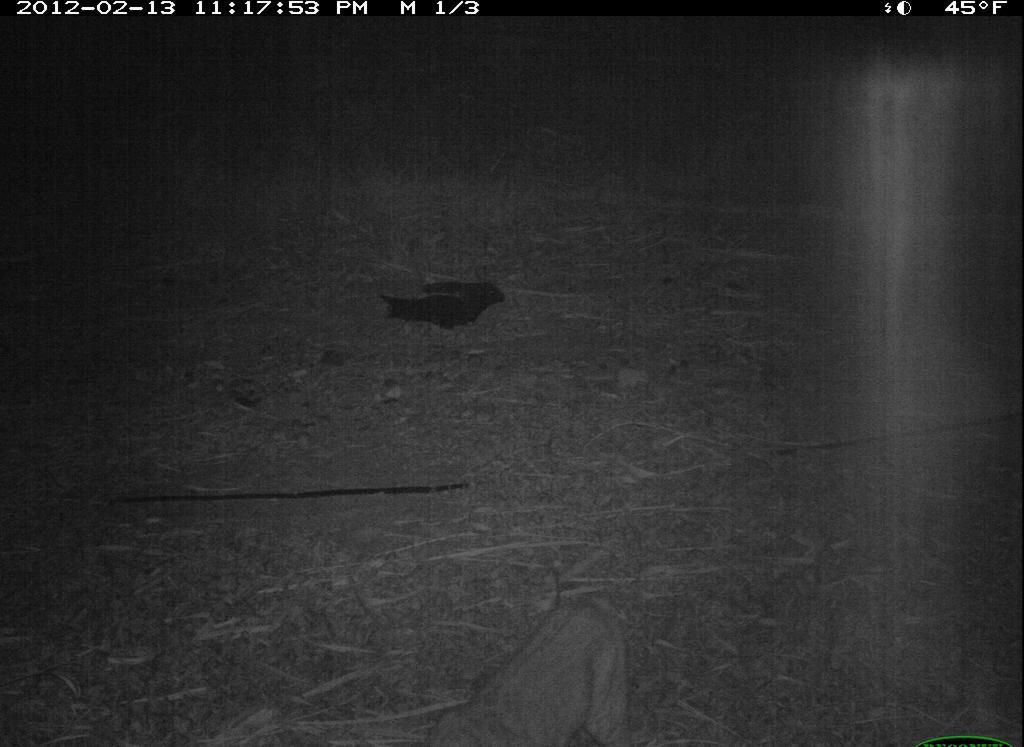bobcat: (401, 571, 641, 747)
